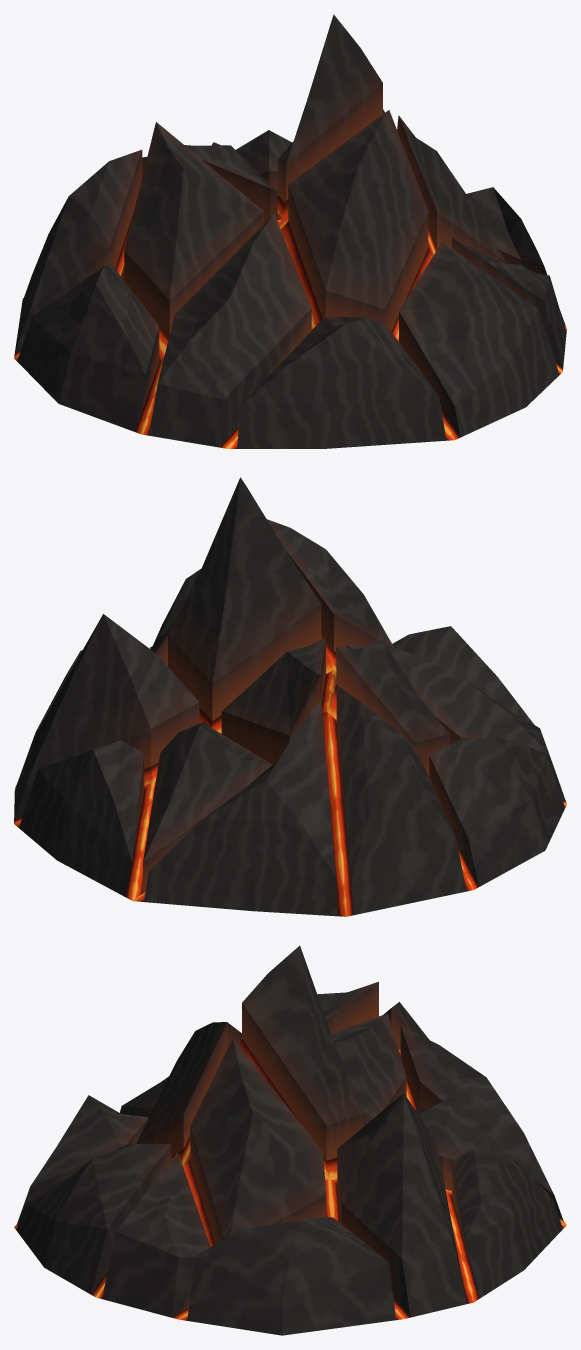
Rendered from 펑크_용암바위_03.fbx.
3 views of the same model, one above another, from view 1: azimuth 30°, elevation 25°; view 2: azimuth 150°, elevation 25°; view 3: azimuth 270°, elevation 25° (orthographic). The views are drawn at different scales.
Visible parts, largest first — view 1: 펑크_용암바위_03; view 2: 펑크_용암바위_03; view 3: 펑크_용암바위_03.
Boxes of the visible parts, x1=… form: 펑크_용암바위_03: x1=14, y1=14, x2=566, y2=448; 펑크_용암바위_03: x1=14, y1=477, x2=566, y2=916; 펑크_용암바위_03: x1=14, y1=945, x2=566, y2=1335.
Bounding box in the file's own units: 1167 × 700 × 1188.
2 materials, 2 textured.
